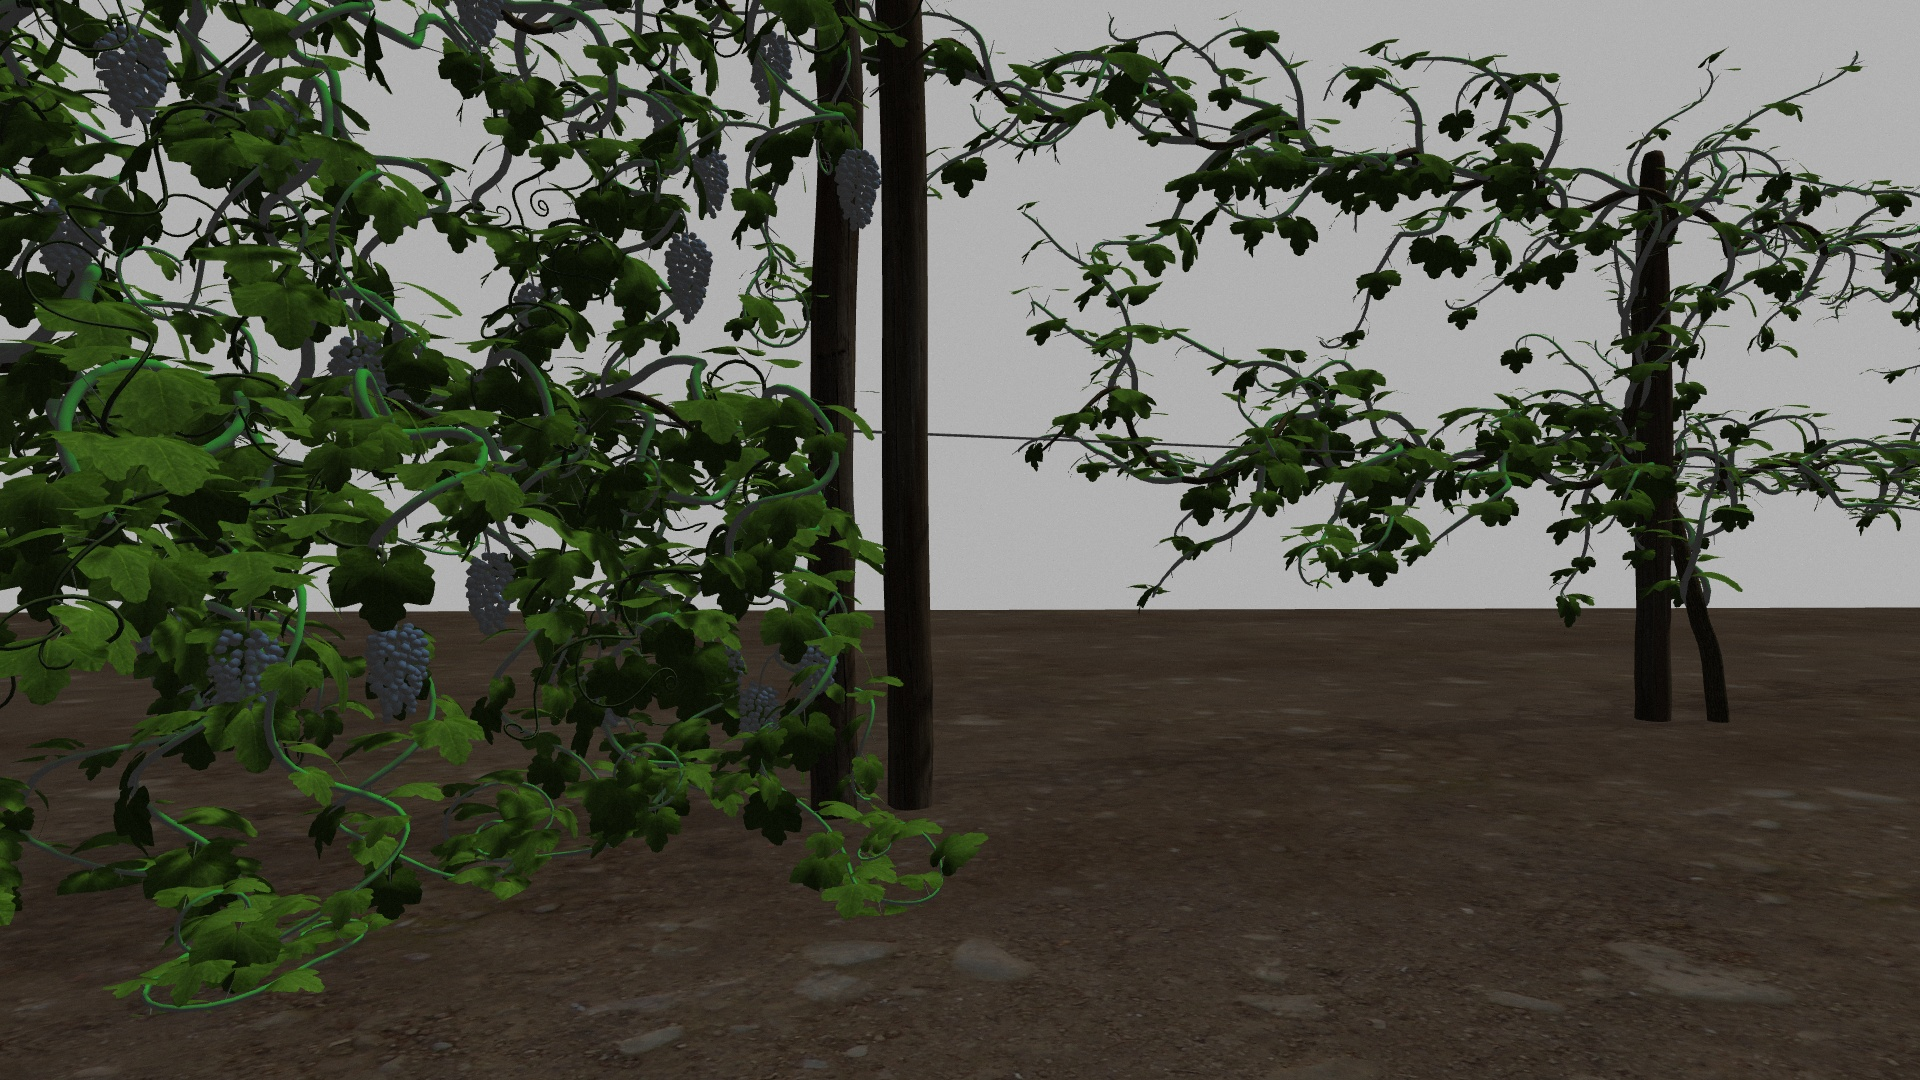grape: (95, 28, 171, 123), (363, 622, 433, 723), (40, 196, 102, 285), (208, 630, 282, 702), (463, 550, 518, 632), (666, 233, 713, 324), (833, 144, 882, 232), (746, 32, 794, 105), (691, 152, 735, 224), (328, 335, 385, 386), (737, 684, 777, 738), (456, 7, 502, 49), (799, 647, 837, 696)
